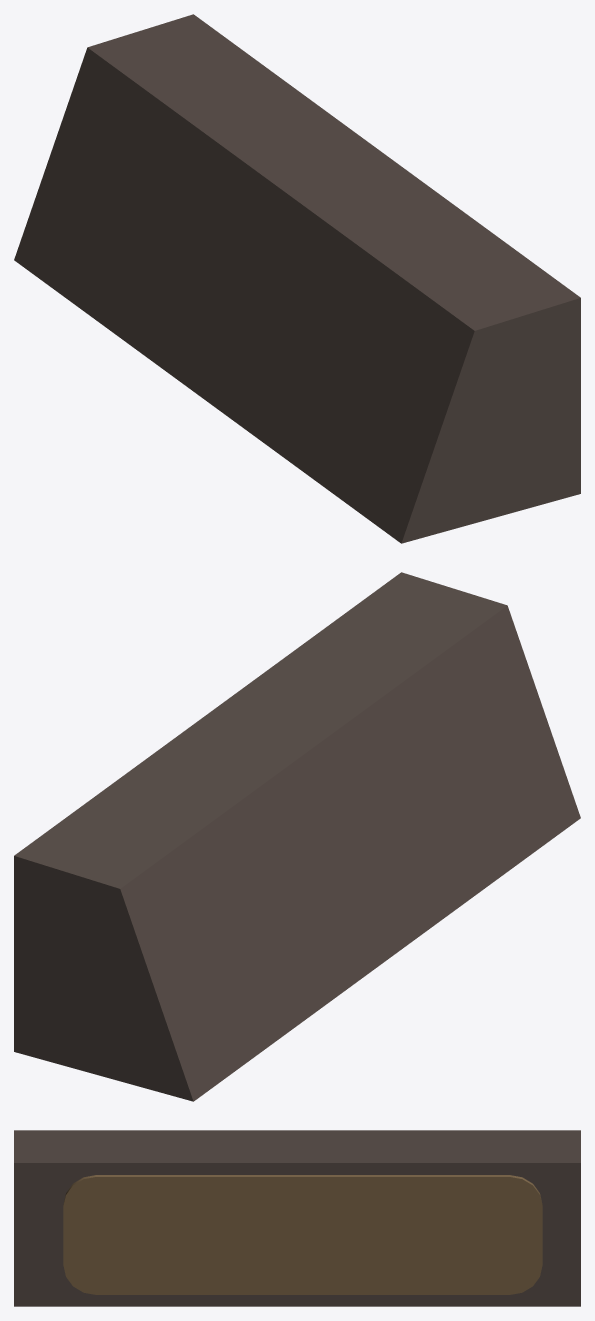
The model's file is Name_Plate.fbx.
3 renders of one model, top to bottom at view 1: azimuth 30°, elevation 25°; view 2: azimuth 150°, elevation 25°; view 3: azimuth 270°, elevation 25°, orthographic. The views are drawn at different scales.
Visible parts, largest first — view 1: pCube2; view 2: pCube2; view 3: pCube3, pCube2.
Boxes of the visible parts, left/top/right/bottom form: pCube2: left=14, top=14, right=580, bottom=543; pCube2: left=14, top=572, right=580, bottom=1101; pCube3: left=63, top=1175, right=542, bottom=1294; pCube2: left=14, top=1130, right=580, bottom=1306.
Size of the model in its own units: 0.0966 by 0.101 by 0.3507.
